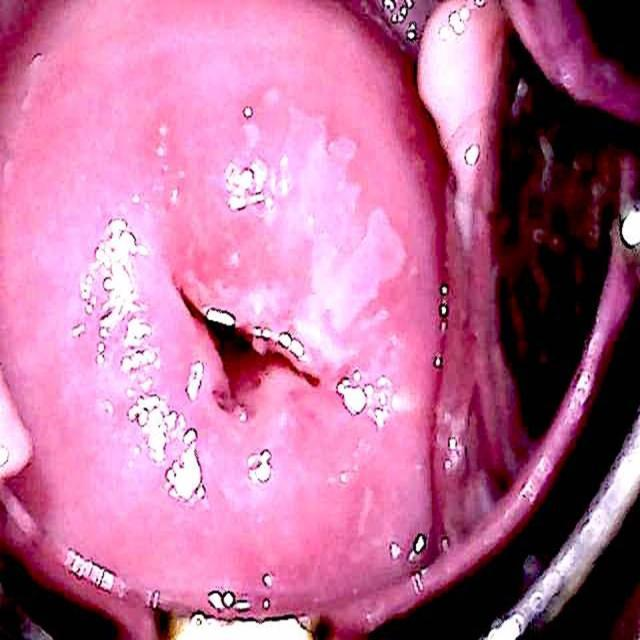cervical_lesion: (73, 156, 388, 521)
